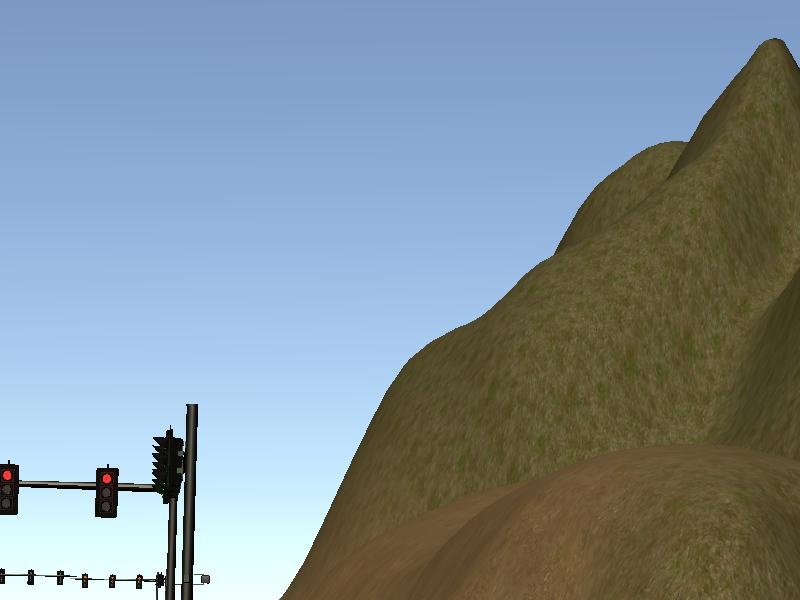red_light: (97, 469, 117, 516), (1, 463, 16, 516)
